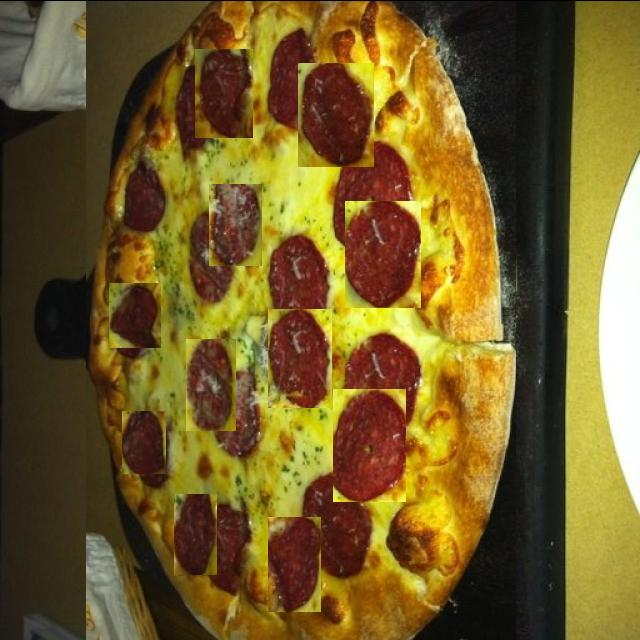pepperoni: (333, 388, 408, 501), (345, 198, 421, 306), (298, 62, 374, 166), (268, 306, 332, 406), (195, 48, 253, 137), (268, 516, 321, 611), (186, 338, 236, 430), (209, 183, 262, 265), (174, 493, 217, 574), (109, 280, 161, 346), (130, 154, 168, 227), (122, 410, 166, 473)
pizza: (86, 0, 516, 640)
